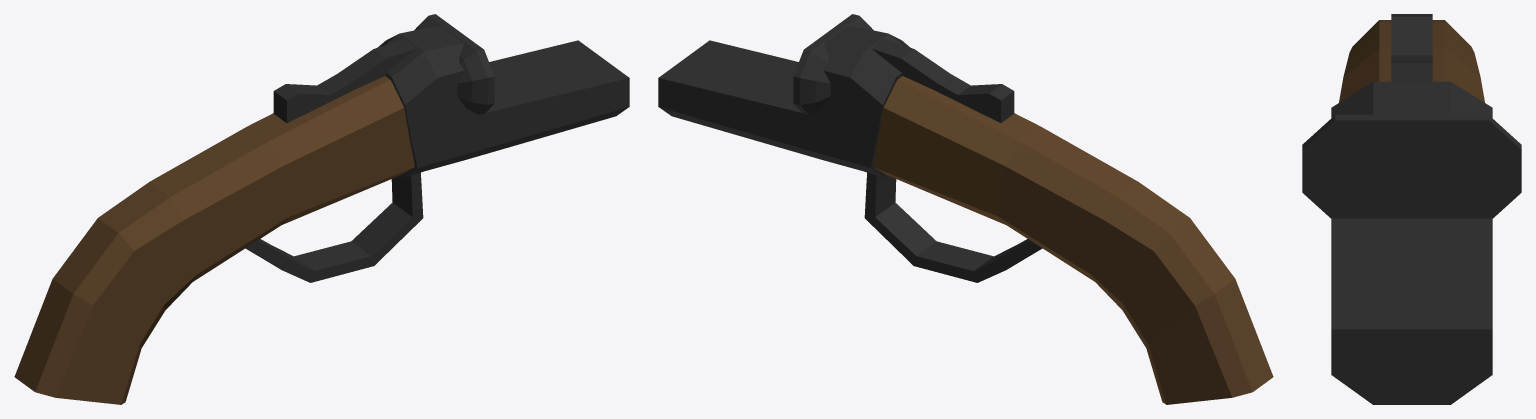
Rendered from Shotgun4_01.fbx.
The picture shows the model from 3 angles, left to right: view 1: azimuth 30°, elevation 25°; view 2: azimuth 150°, elevation 25°; view 3: azimuth 270°, elevation 25°; orthographic projection. The views are drawn at different scales.
Visible parts, largest first — view 1: Shotgun4_01; view 2: Shotgun4_01; view 3: Shotgun4_01.
Part boxes in pixels (x1,y1,x2,y2): Shotgun4_01: (14,14,629,404); Shotgun4_01: (658,14,1273,404); Shotgun4_01: (1302,14,1521,404).
Size of the model in its own units: 0.2995 by 0.1382 by 0.0624.
